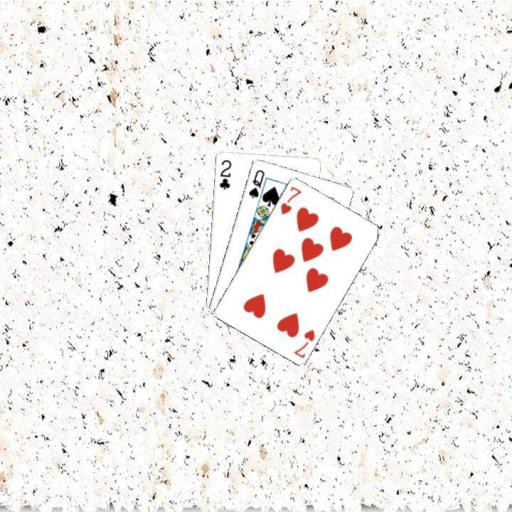2C: (216, 157, 233, 191)
7H: (277, 183, 303, 216), (291, 326, 316, 360)
QS: (245, 166, 266, 200)
